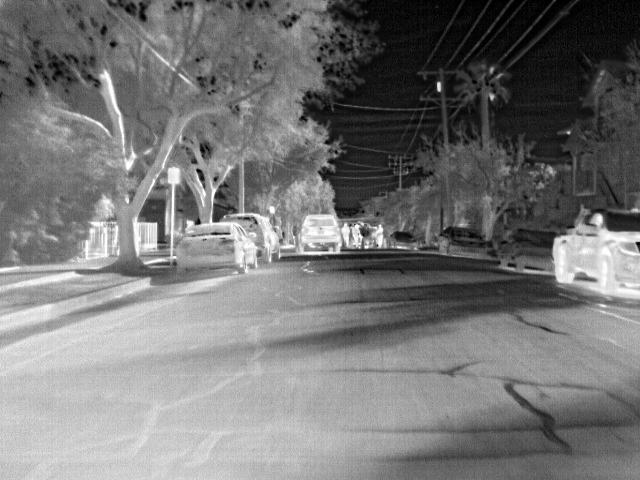car: (552, 206, 640, 291), (178, 221, 257, 277), (499, 225, 561, 271), (218, 214, 279, 260), (296, 213, 342, 256), (437, 226, 486, 255), (389, 229, 418, 248)
person: (352, 222, 366, 248), (341, 220, 353, 246), (375, 222, 387, 248)
